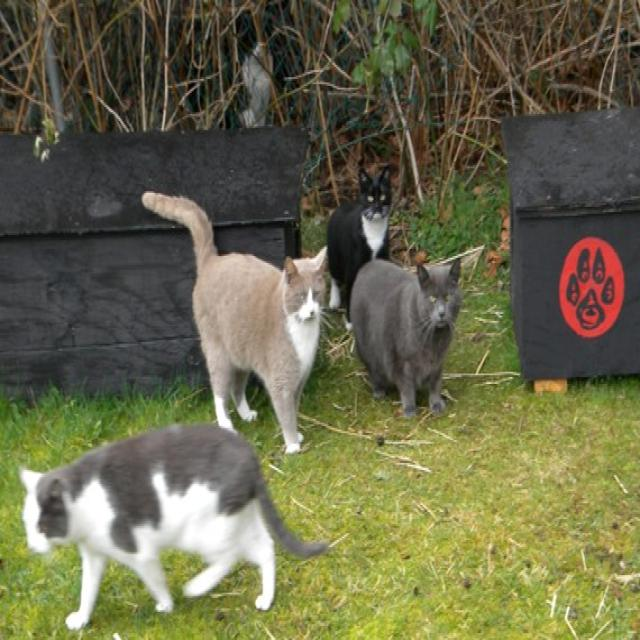cat: (22, 426, 328, 628), (144, 193, 326, 452), (351, 260, 461, 415), (329, 166, 391, 329)
